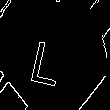L_N: (35, 29, 75, 86)
